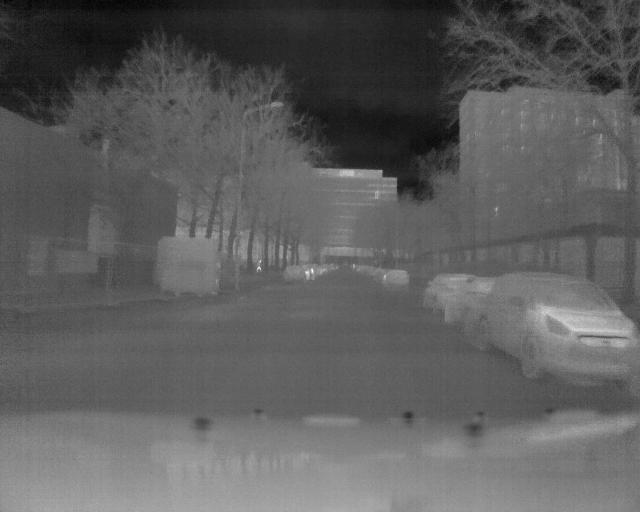car: (475, 270, 638, 383), (422, 270, 473, 310)
person: (256, 256, 264, 274)
